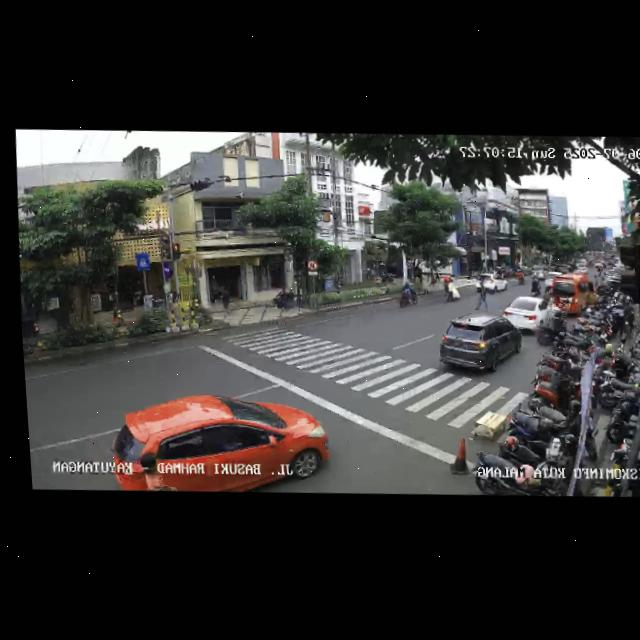car: (109, 388, 334, 497), (433, 312, 524, 377), (500, 293, 559, 335), (549, 272, 597, 316), (477, 270, 510, 294)
motorcycle: (397, 280, 418, 308), (442, 276, 462, 303), (529, 276, 543, 297)
person: (470, 279, 490, 313)
